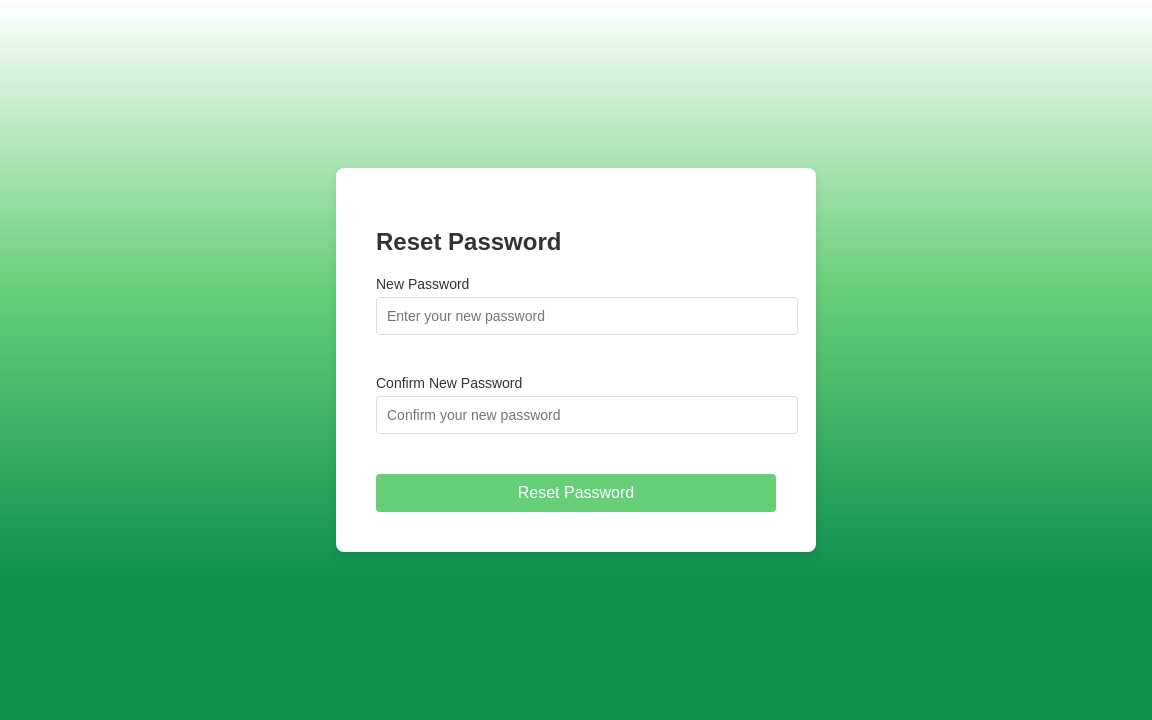
Test case: ResetPassword Component › shows error when fields are empty and submit is clicked
This screenshot has width=1152, height=720.
What coordinates should you click on to do the following:
click the button with test id "submit-button"
I would click on:
 (576, 493)
Its box is [376,474,776,512].
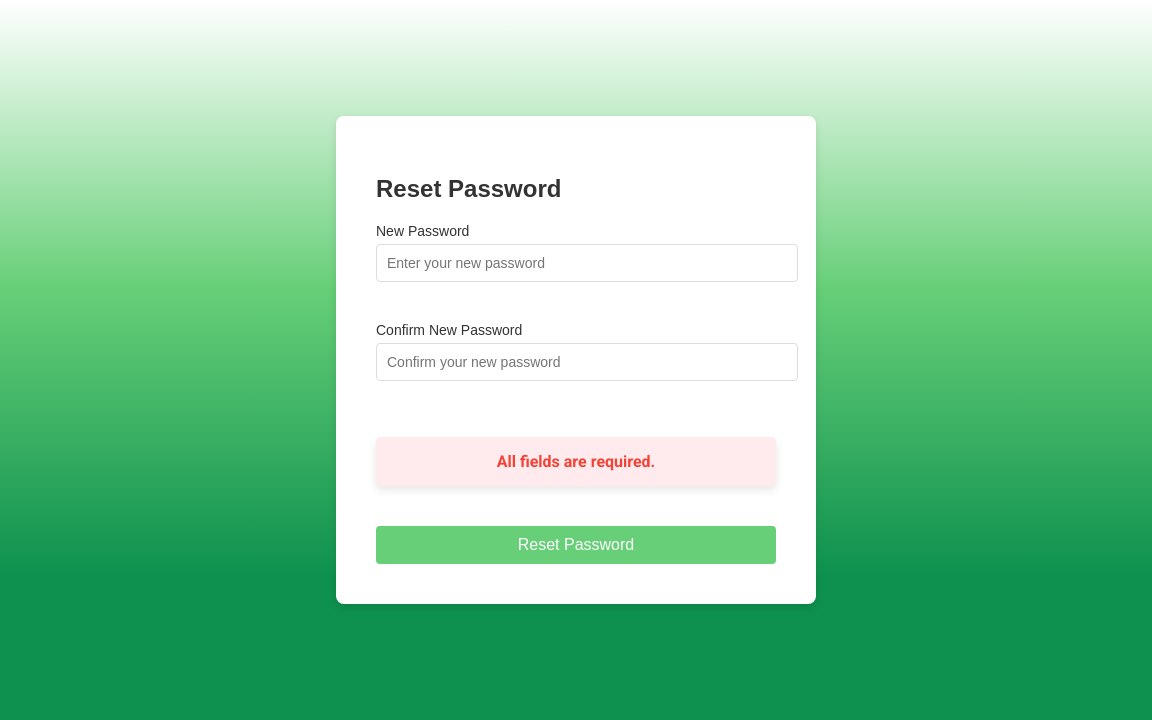
Expected: the text with test id "auth-error" reads "All fields are required.", [497,452,655,472]
